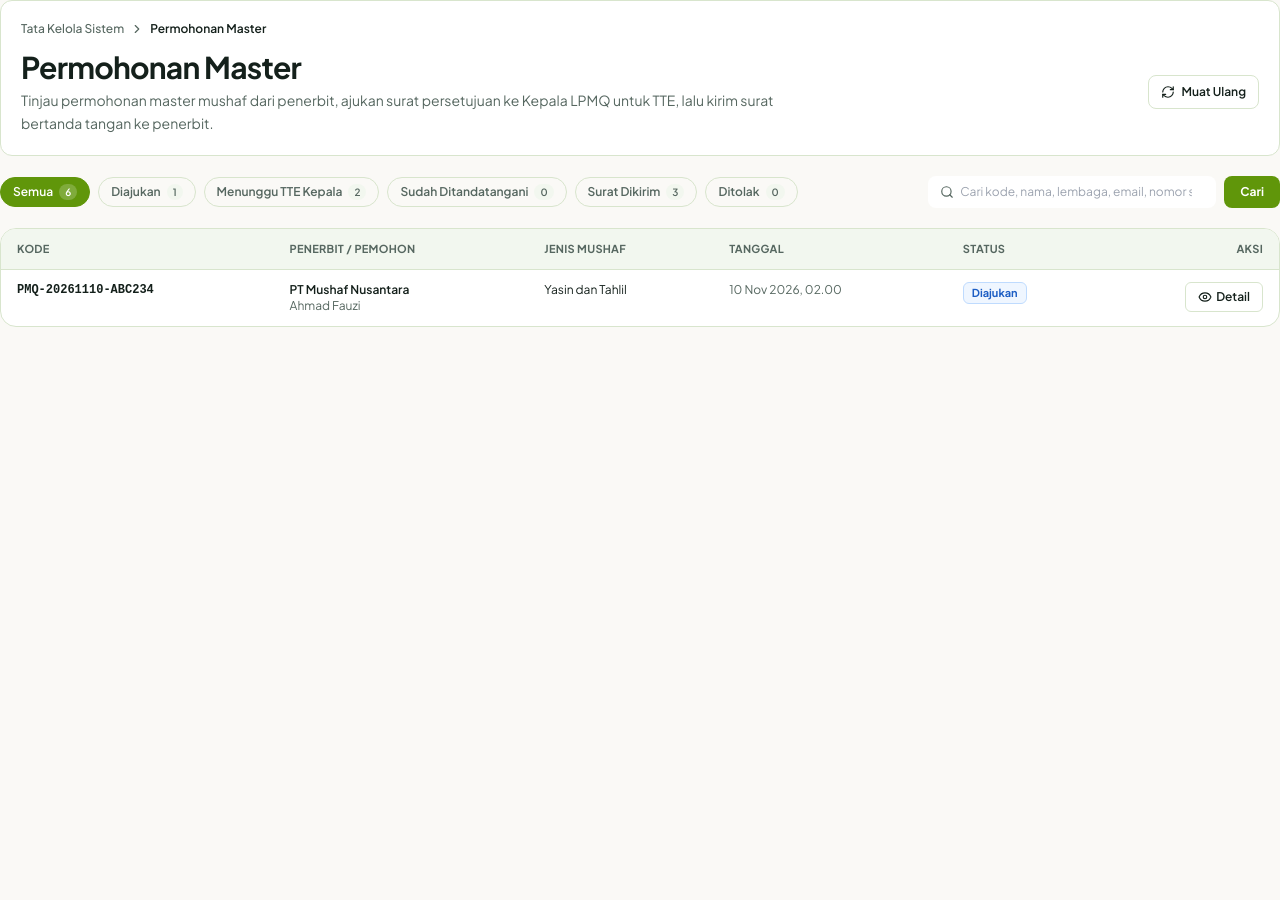
it: AdminMasterRequestsPage › permohonan formulir lama tanpa akun penerbit tidak dapat dibuatkan surat
Click the button with aria-label "Lihat detail permohonan PMQ-20261110-ABC234": (1224, 296) [1185, 282, 1263, 312]
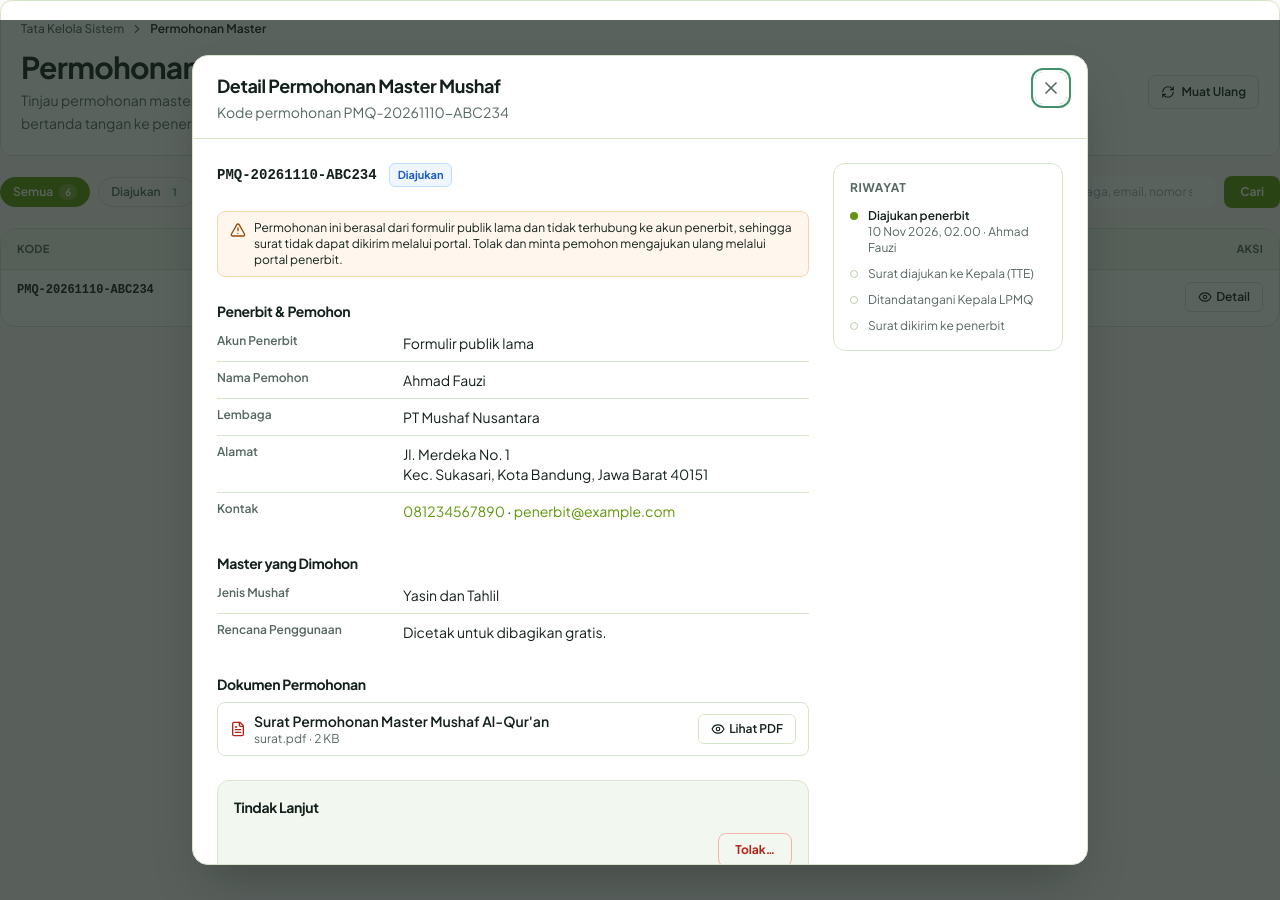
Check: the link "penerbit@example.com" is shown, box [514, 502, 675, 520]
Check: the text "formulir publik lama" is shown, box [254, 220, 792, 267]
Check: the button "Tolak…" is shown, box [718, 833, 792, 864]
